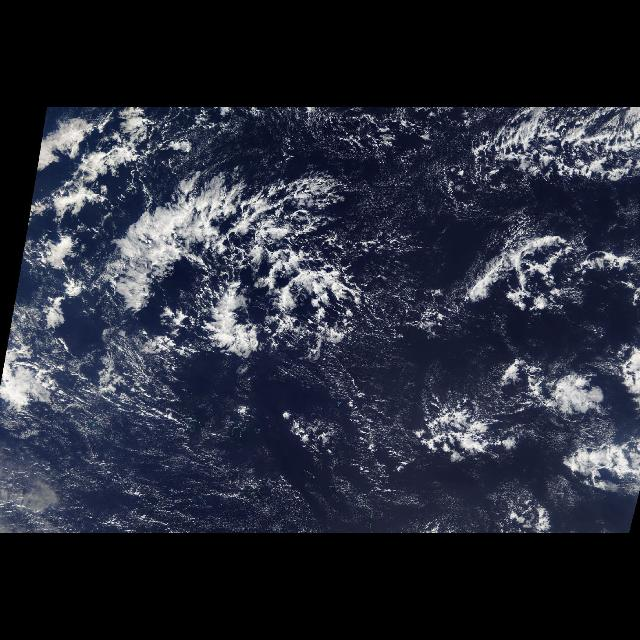Fish: (96, 110, 628, 378)
Sugar: (2, 389, 408, 531)
